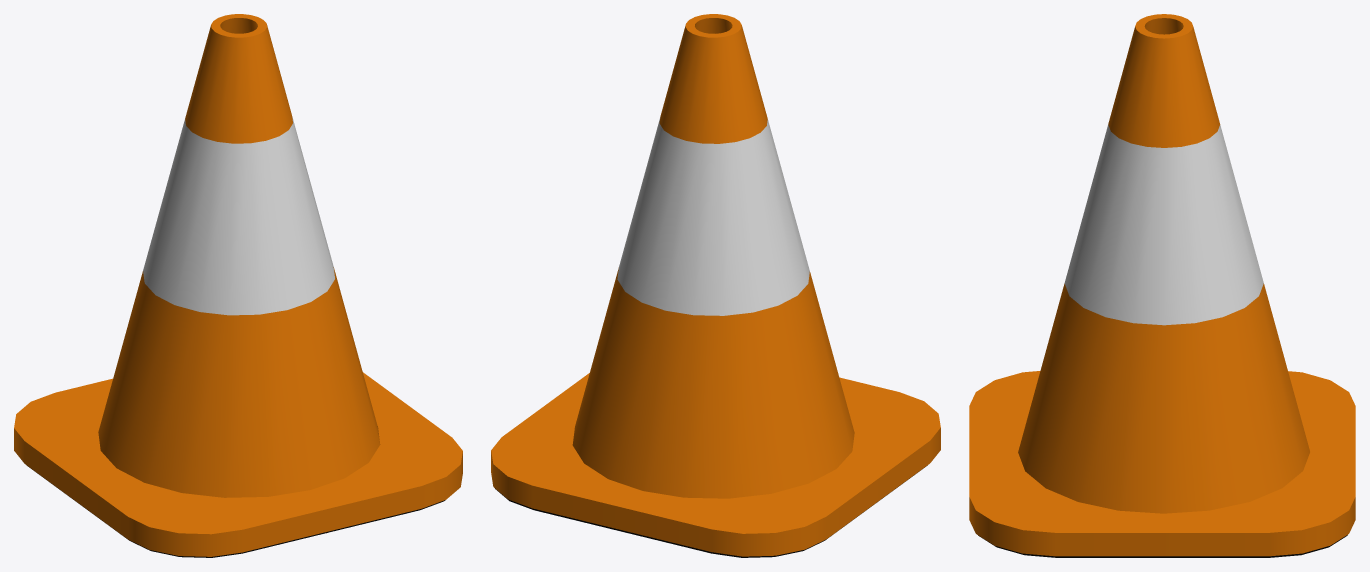
The model's file is M_3_trafficcone2.fbx.
3 renders of one model, left to right at view 1: azimuth 30°, elevation 25°; view 2: azimuth 150°, elevation 25°; view 3: azimuth 270°, elevation 25°, orthographic. The views are drawn at different scales.
Parts seen in each view (by area): view 1: pPipe1, polySurface1, polySurface2; view 2: pPipe1, polySurface1, polySurface2; view 3: pPipe1, polySurface1, polySurface2.
Boxes of the visible parts, left/top/right/bottom form: pPipe1: left=98, top=14, right=379, bottom=497; polySurface1: left=14, top=372, right=462, bottom=556; polySurface2: left=28, top=466, right=445, bottom=557; pPipe1: left=572, top=14, right=854, bottom=498; polySurface1: left=491, top=373, right=940, bottom=556; polySurface2: left=495, top=465, right=927, bottom=557; pPipe1: left=1018, top=14, right=1309, bottom=513; polySurface1: left=969, top=371, right=1355, bottom=556; polySurface2: left=978, top=535, right=1347, bottom=557.
Size of the model in its own units: 3.08 by 4.02 by 3.08.
